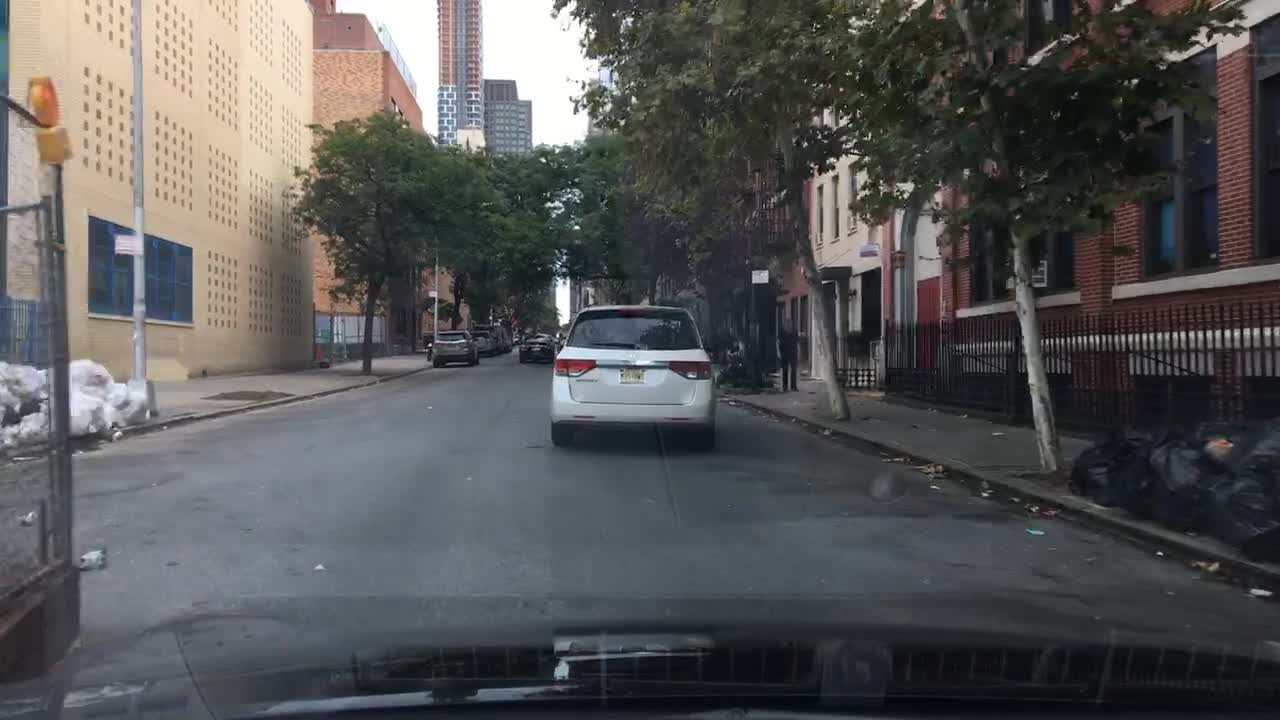car: (551, 302, 718, 453), (429, 330, 475, 367), (518, 331, 555, 363), (477, 323, 513, 355), (469, 330, 493, 360), (555, 328, 570, 352), (513, 330, 526, 343)
motor: (718, 355, 750, 384)
person: (777, 319, 802, 392)
rider: (725, 336, 745, 360)
traffic sign: (114, 232, 145, 255), (1029, 259, 1048, 287), (857, 242, 879, 257), (751, 267, 768, 286), (458, 301, 470, 318), (427, 287, 436, 301)
